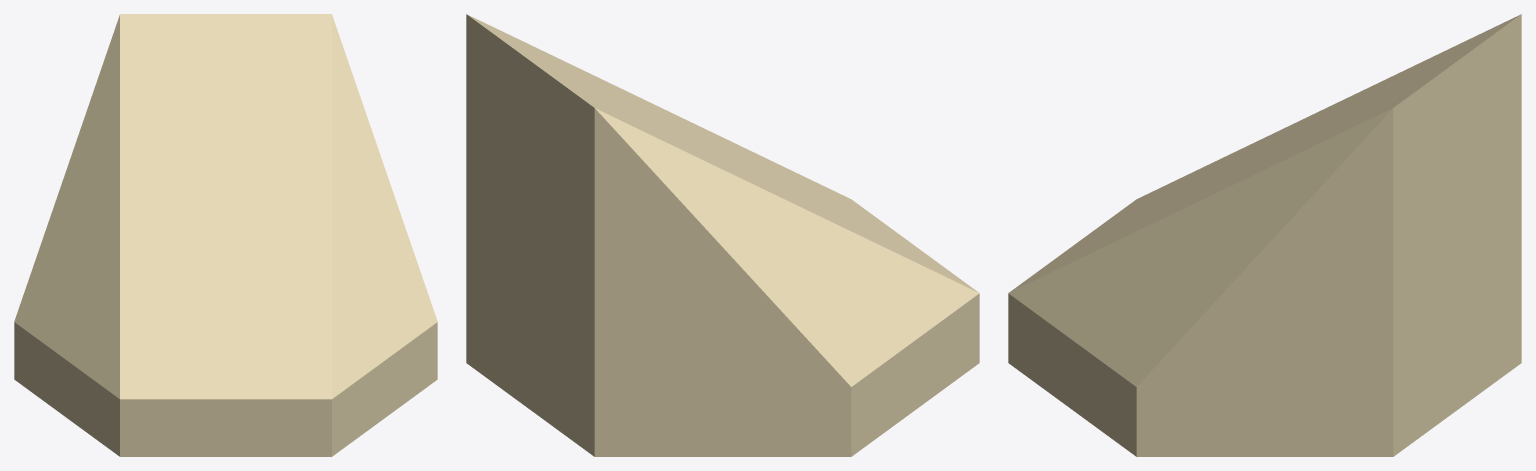
File: beach_tile2.glb
3 renders of one model, left to right at view 1: azimuth 30°, elevation 25°; view 2: azimuth 150°, elevation 25°; view 3: azimuth 270°, elevation 25°, orthographic. The views are drawn at different scales.
Visible parts, largest first — view 1: BeachStairTile-col; view 2: BeachStairTile-col; view 3: BeachStairTile-col.
Part boxes in pixels (x1,y1,x2,y2): BeachStairTile-col: [14, 14, 437, 456]; BeachStairTile-col: [466, 14, 979, 456]; BeachStairTile-col: [1008, 14, 1521, 456].
Bounding box in the file's own units: 1.73 × 1.5 × 2.
Materials: 2 (2 with a texture image).
